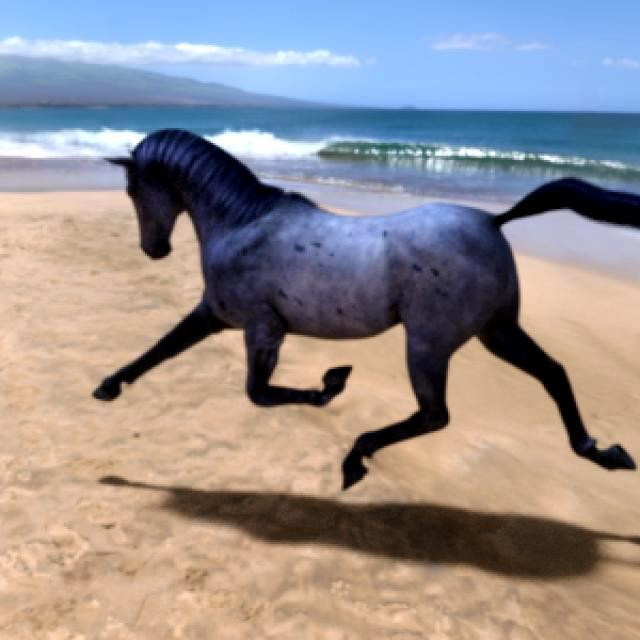horse: (94, 130, 640, 488)
